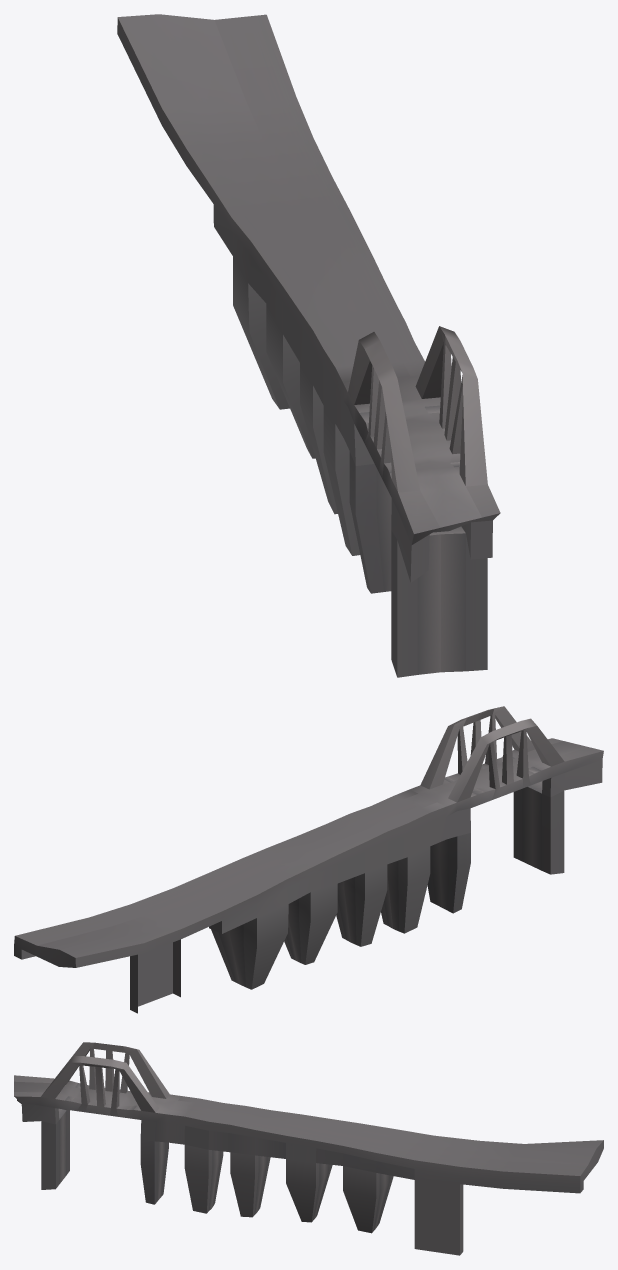
The model's file is Bridge_new.fbx.
3 views of the same model, one above another, from view 1: azimuth 30°, elevation 25°; view 2: azimuth 150°, elevation 25°; view 3: azimuth 270°, elevation 25° (orthographic). The views are drawn at different scales.
Visible parts, largest first — view 1: geo_bridge1; view 2: geo_bridge1; view 3: geo_bridge1.
Boxes of the visible parts, bbox=[...] form: geo_bridge1: bbox=[117, 14, 500, 677]; geo_bridge1: bbox=[14, 706, 603, 1013]; geo_bridge1: bbox=[14, 1042, 603, 1255].
Size of the model in its own units: 23.52 by 15.3 by 57.12.
